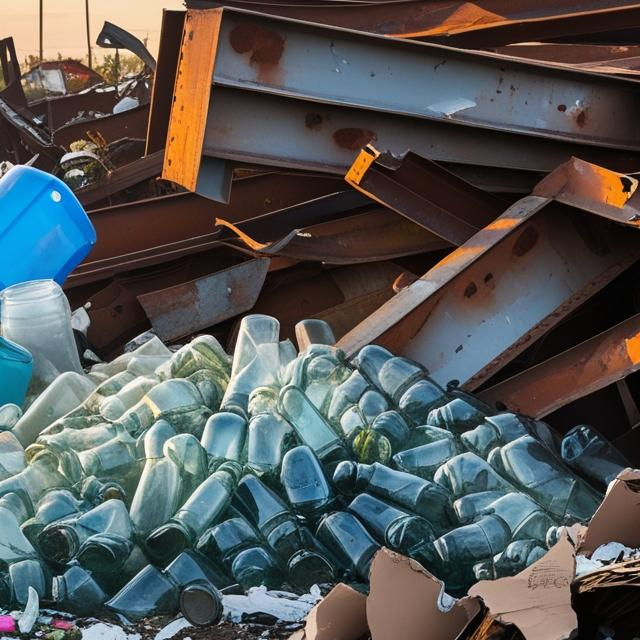plastic: (0, 163, 89, 287)
